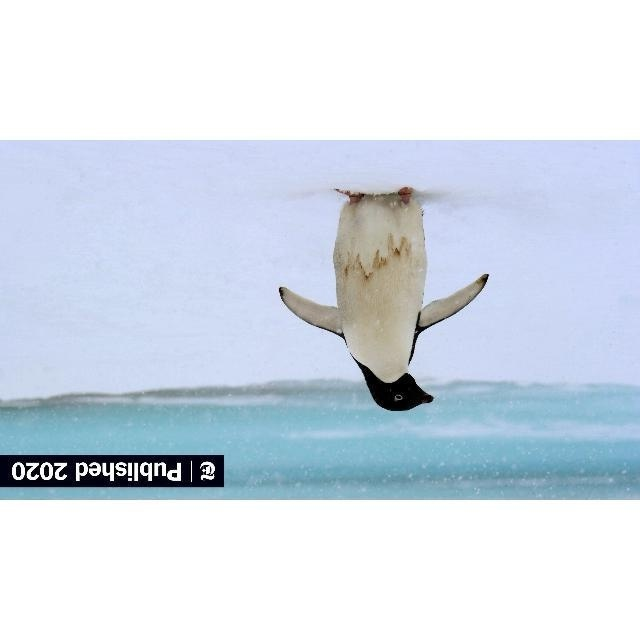penguin: (278, 186, 489, 412)
